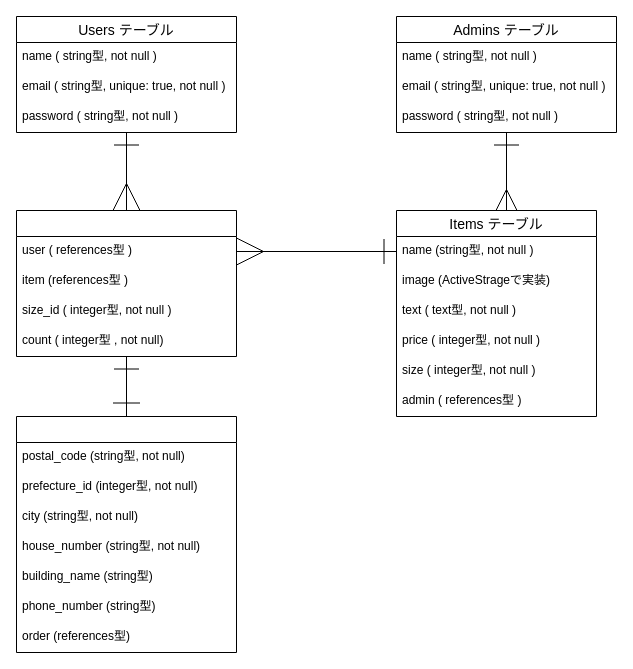
This 633x669 diagram has some shape labels left out. The shapes that lost their labels are listed below. From the top down, each one's box as (x1, y1, x2, y2) in pixels, then its label:
(16, 210, 236, 356): Orders テーブル
(16, 416, 236, 652): addresses テーブル
